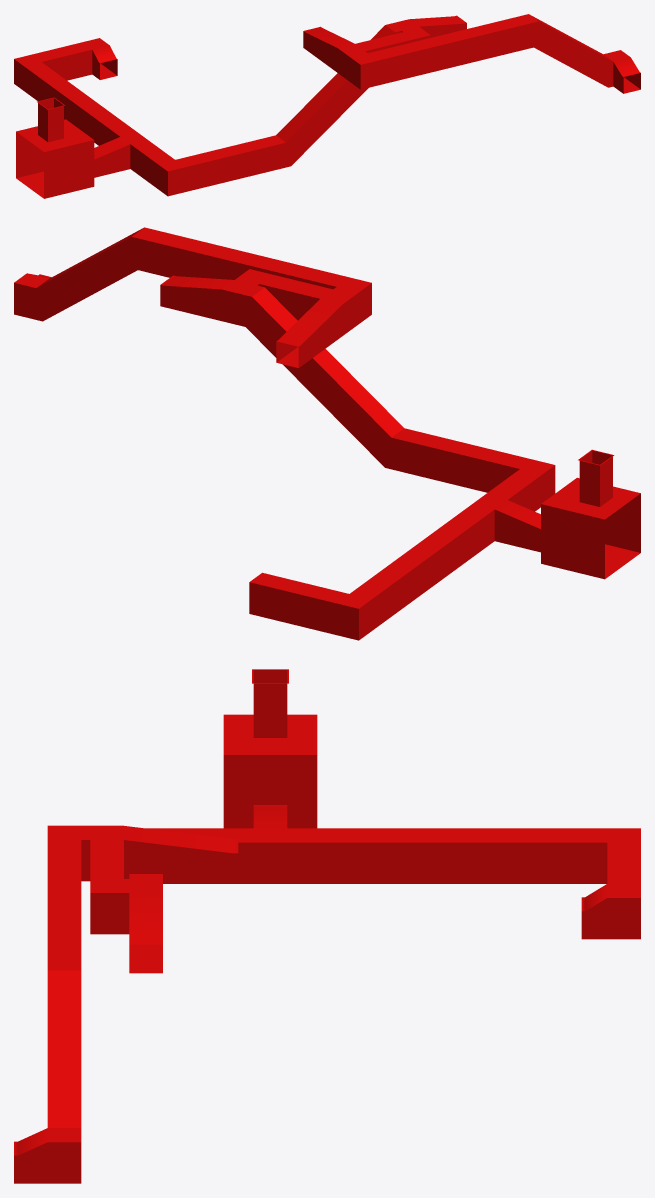
The model's file is VentSystem.fbx.
The picture shows the model from 3 angles, top to bottom: view 1: azimuth 30°, elevation 25°; view 2: azimuth 150°, elevation 25°; view 3: azimuth 270°, elevation 25°; orthographic projection. The views are drawn at different scales.
Parts seen in each view (by area): view 1: VentSystem; view 2: VentSystem; view 3: VentSystem.
Boxes of the visible parts, bbox=[...] form: VentSystem: bbox=[14, 14, 640, 198]; VentSystem: bbox=[14, 227, 640, 640]; VentSystem: bbox=[14, 669, 640, 1183].
Bounding box in the file's own units: 3711 × 721 × 2271.
